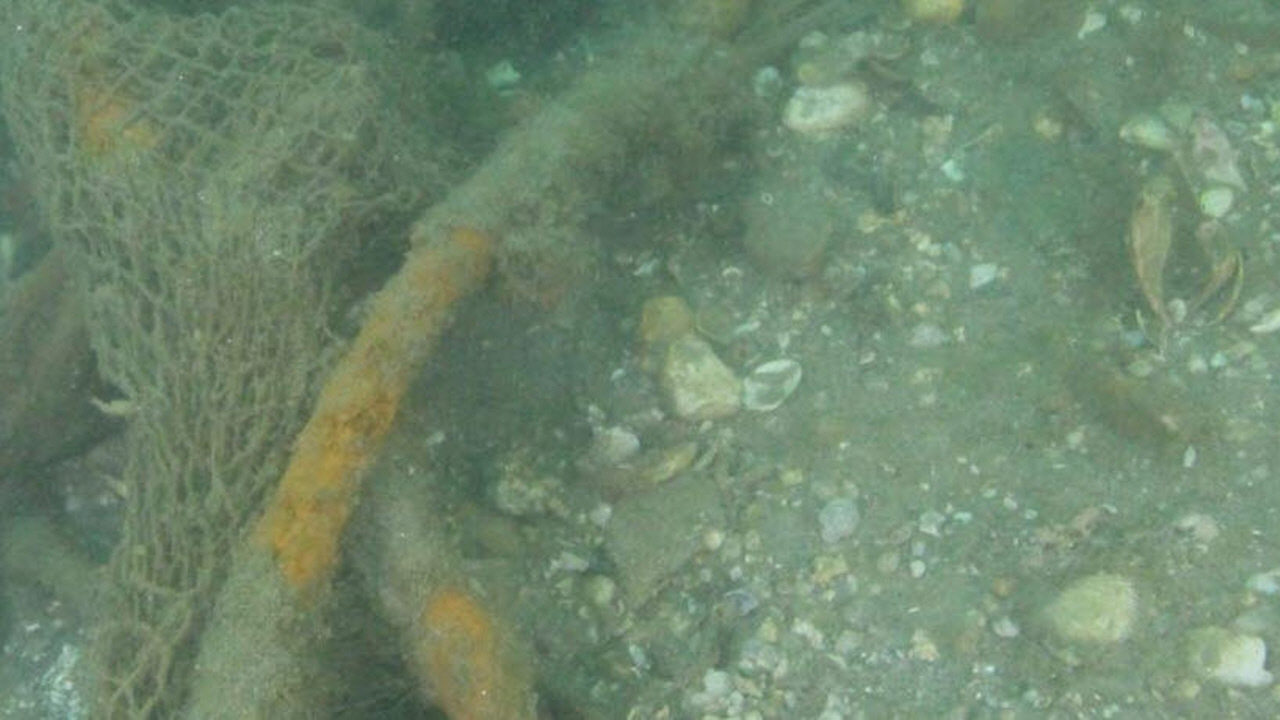fish net: (0, 2, 422, 720)
